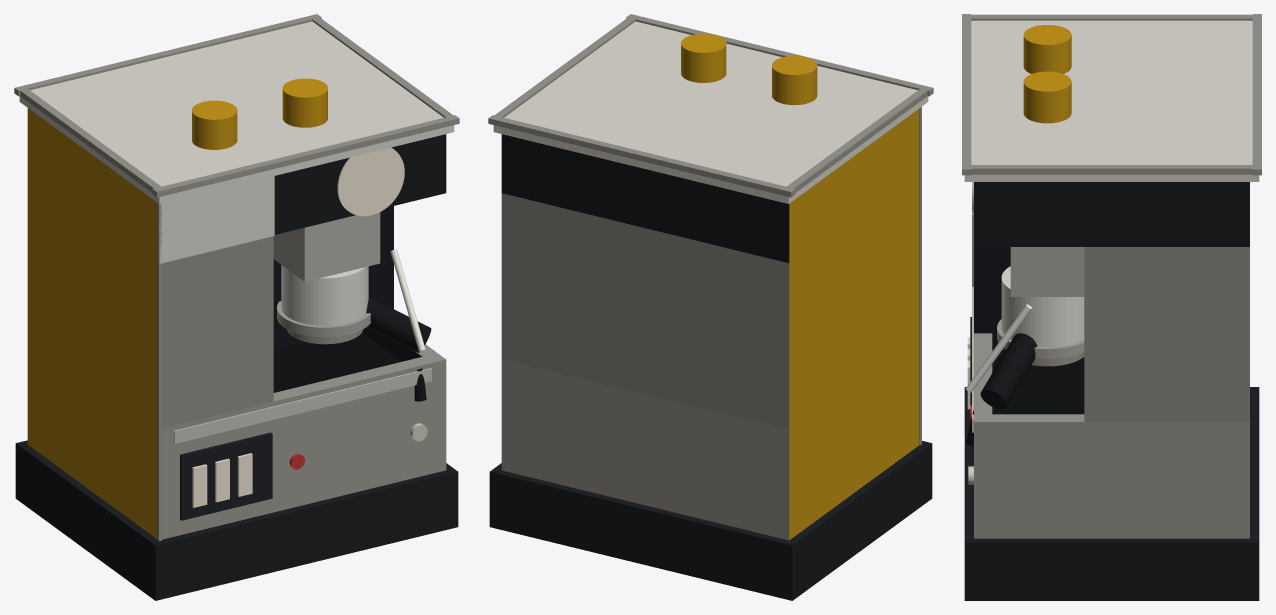
File: quickmill-blockout.glb
3 views of the same model, side by side, from view 1: azimuth 30°, elevation 25°; view 2: azimuth 150°, elevation 25°; view 3: azimuth 270°, elevation 25° (orthographic). The views are drawn at different scales.
Visible parts, largest first — view 1: chrome_top, base, lower_body, upper_core_yellow, upper_core, lower_body_yellow, top_housing_yellow, top_chrome_left, top_housing, group_housing, switch_plate, tray_grate (+18 smaller); view 2: upper_core, chrome_top, lower_body, base, upper_core_yellow, top_housing, lower_body_yellow, top_housing_yellow, chrome_rim_1, knob_r_yellow, knob_l_yellow, chrome_rim_3 (+3 smaller); view 3: chrome_top, lower_body, upper_core, base, top_housing, tray_grate, group_head, group_housing, chrome_rim_2, upper_core_bay, knob_r_yellow, portafilter_handle (+6 smaller).
Part boxes in pixels (x1,y1,x2,y2): chrome_top: (19,21,454,203); base: (15,440,458,600); lower_body: (162,344,446,539); upper_core_yellow: (27,167,156,427); upper_core: (162,236,273,428); lower_body_yellow: (27,334,156,538); top_housing_yellow: (27,108,156,261); top_chrome_left: (159,176,274,263); top_housing: (274,134,446,234); group_housing: (273,212,380,281); switch_plate: (180,432,272,520); tray_grate: (273,332,401,392); upper_core: (501,193,789,429); chrome_top: (493,21,928,203); lower_body: (501,359,789,540); base: (489,441,932,600); upper_core_yellow: (789,168,919,429); top_housing: (501,134,789,262); lower_body_yellow: (789,335,919,539); top_housing_yellow: (789,109,919,262); chrome_rim_1: (488,115,795,197); knob_r_yellow: (681,33,726,82); knob_l_yellow: (772,56,817,105); chrome_rim_3: (786,89,927,192); chrome_top: (964,20,1259,181); lower_body: (974,333,1249,538); upper_core: (1084,247,1249,421); base: (964,387,1259,600); top_housing: (974,182,1249,246); tray_grate: (992,333,1084,414); group_head: (1001,266,1084,346); group_housing: (1010,247,1084,296); chrome_rim_2: (969,165,1254,174); upper_core_bay: (974,247,1010,333); knob_r_yellow: (1023,71,1071,123); portafilter_handle: (980,333,1037,409).
Size of the model in its own units: 0.4 by 0.553 by 0.326.
